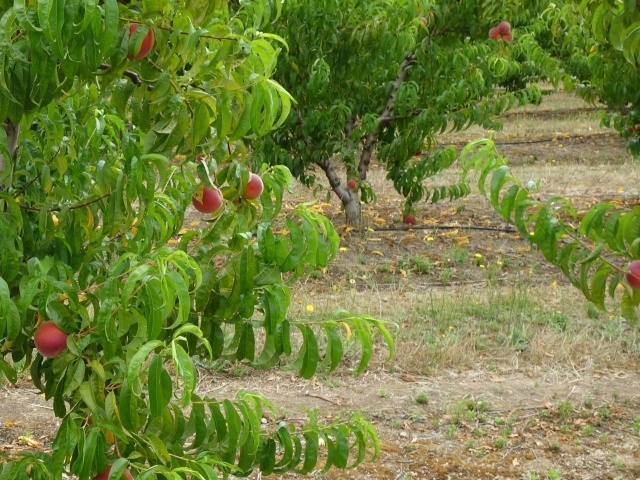peach: (119, 16, 157, 62), (32, 316, 72, 359), (188, 180, 223, 216), (235, 170, 267, 202), (622, 253, 639, 294)
